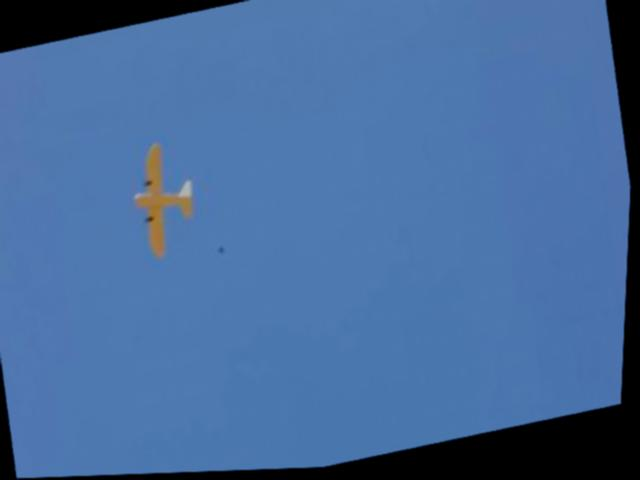uav: (123, 135, 207, 266)
